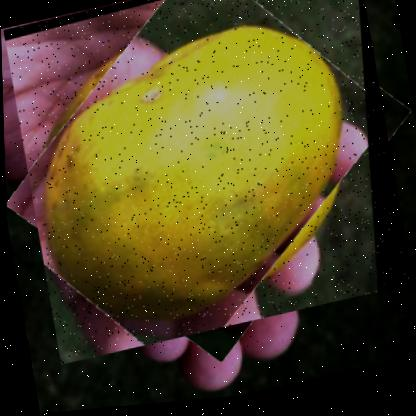orange: (1, 0, 413, 369)
